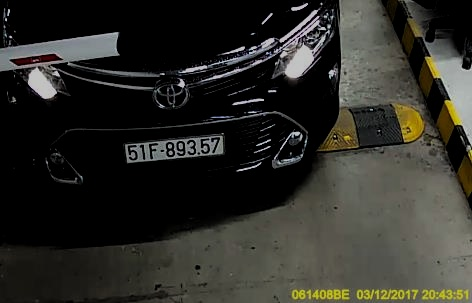plate: (124, 134, 226, 166)
